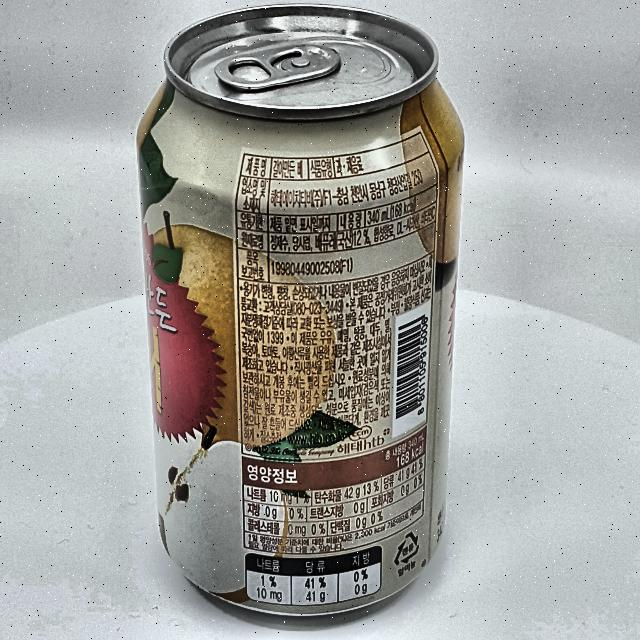galamandeunbae: (128, 13, 474, 630)
